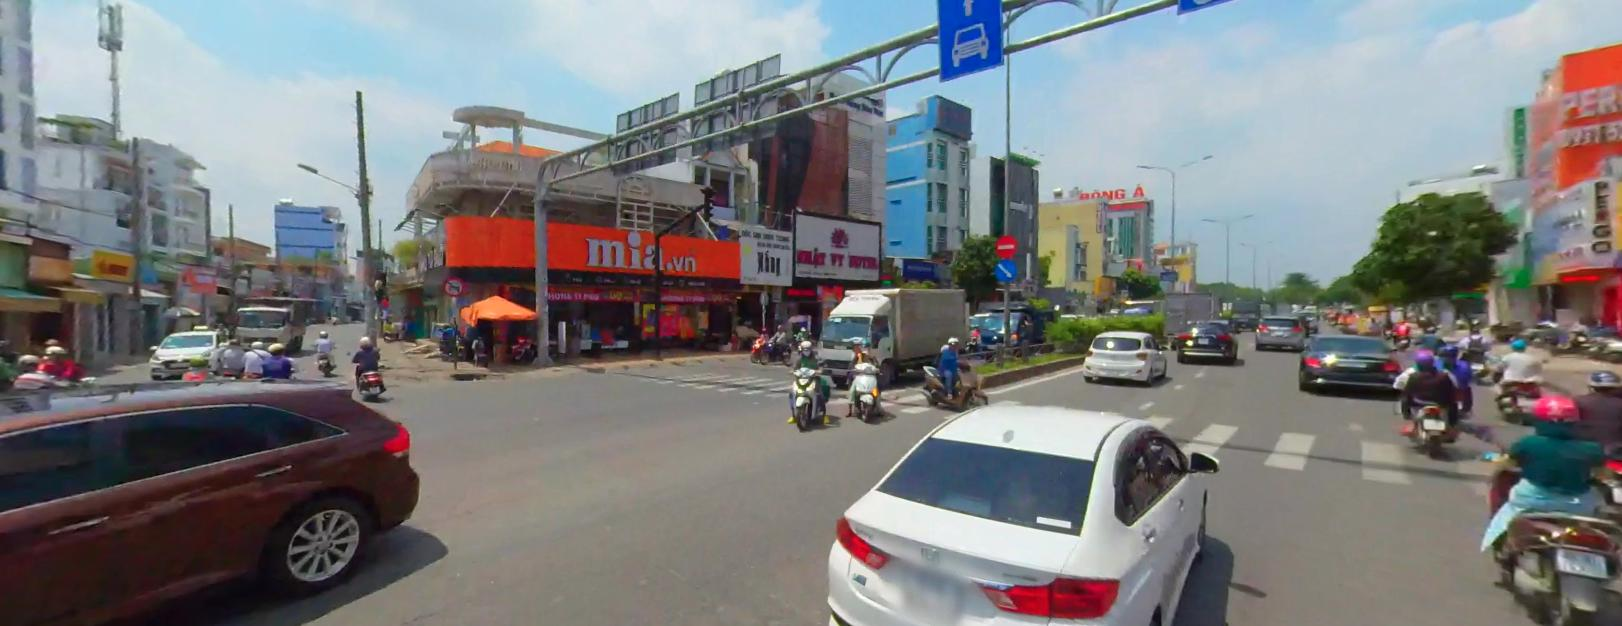Cam con lai: (441, 275, 468, 295)
Cam nguoc chieu: (991, 234, 1016, 256)
Hieu lenh: (992, 258, 1016, 280)
